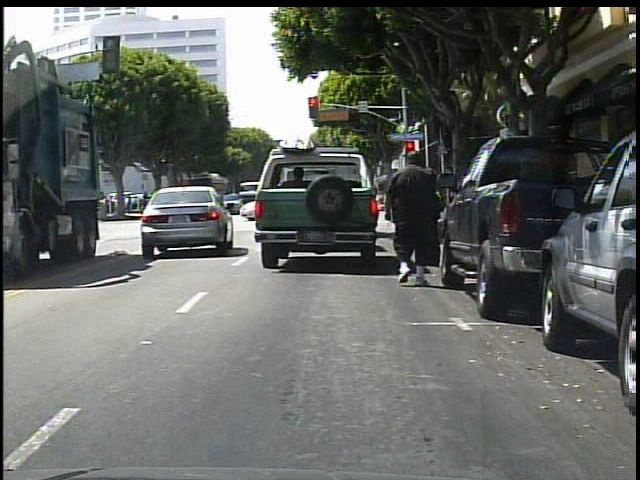person: (387, 150, 443, 287)
